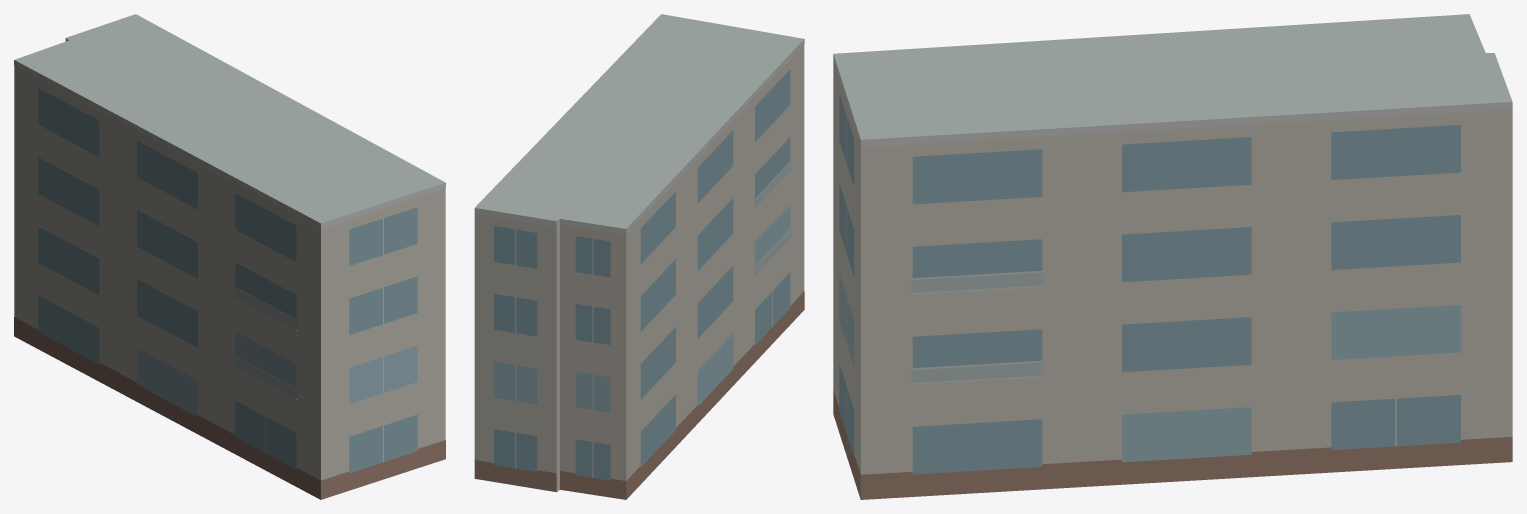
File: survey-upis-32629496.glb
3 renders of one model, left to right at view 1: azimuth 30°, elevation 25°; view 2: azimuth 150°, elevation 25°; view 3: azimuth 270°, elevation 25°, orthographic. The views are drawn at different scales.
Visible parts, largest first — view 1: survey-upis-32629496.tmp; view 2: survey-upis-32629496.tmp; view 3: survey-upis-32629496.tmp.
Boxes of the visible parts, x1,y1,x2,y2 form: survey-upis-32629496.tmp: (14, 14, 445, 499); survey-upis-32629496.tmp: (474, 14, 804, 499); survey-upis-32629496.tmp: (833, 14, 1512, 499).
Bounding box in the file's own units: 8.66 × 11.55 × 19.76.
